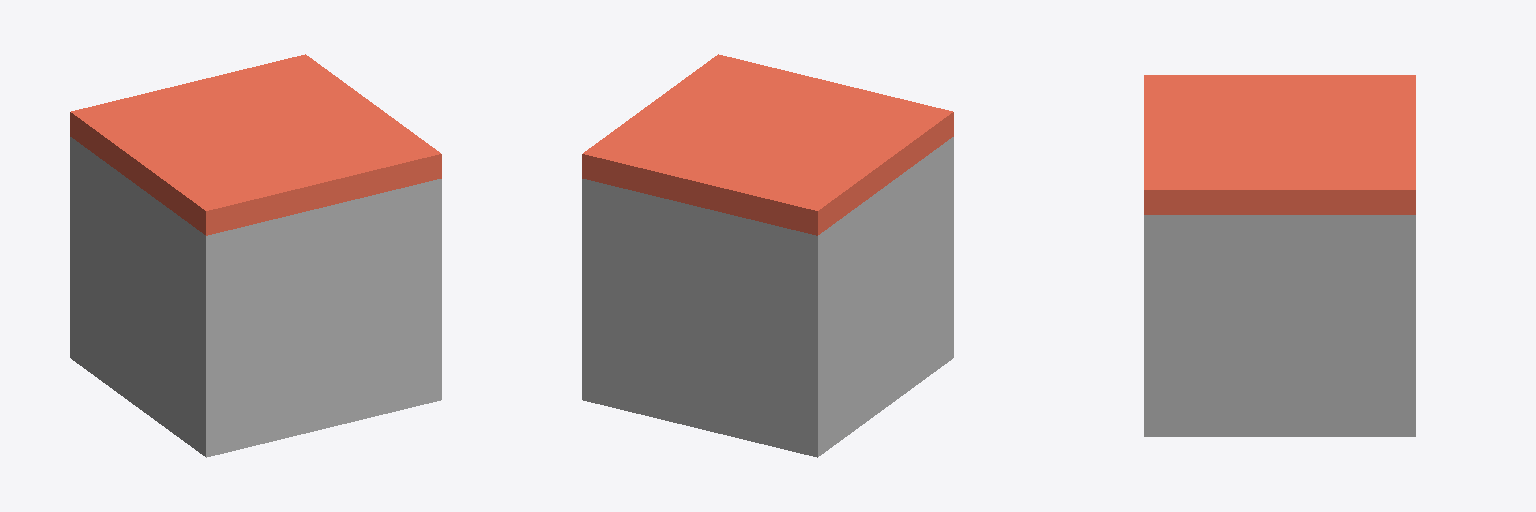
The model's file is tiles_zordoom.obj.
3 views of the same model, side by side, from view 1: azimuth 30°, elevation 25°; view 2: azimuth 150°, elevation 25°; view 3: azimuth 270°, elevation 25° (orthographic).
Parts seen in each view (by area): view 1: Floor_Base_Cube.002; view 2: Floor_Base_Cube.002; view 3: Floor_Base_Cube.002.
Boxes of the visible parts, x1,y1,x2,y2 form: Floor_Base_Cube.002: [70, 54, 441, 457]; Floor_Base_Cube.002: [582, 54, 953, 457]; Floor_Base_Cube.002: [1144, 75, 1415, 436].
Size of the model in its own units: 2 by 2 by 2.